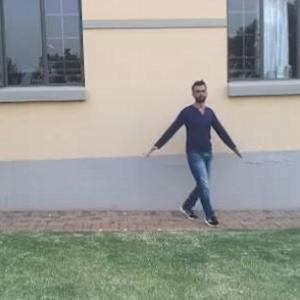land: (142, 84, 239, 232)
